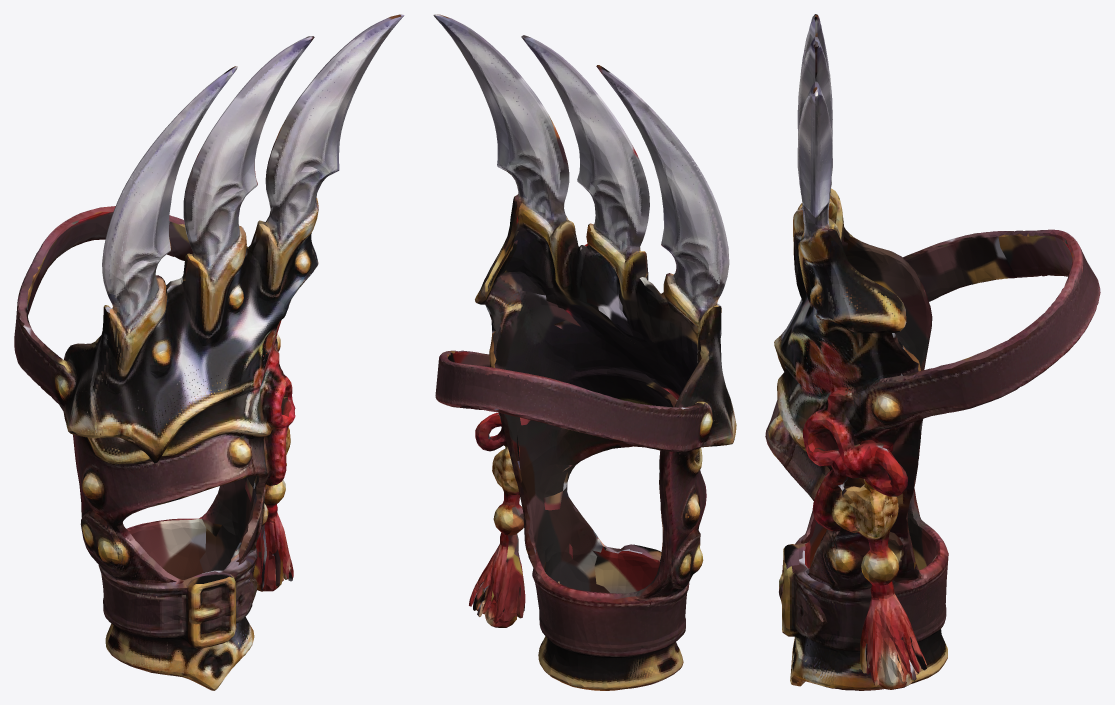
File: claws_source.glb
3 renders of one model, left to right at view 1: azimuth 30°, elevation 25°; view 2: azimuth 150°, elevation 25°; view 3: azimuth 270°, elevation 25°, orthographic. The views are drawn at different scales.
Parts seen in each view (by area): view 1: temp_mesh.ply; view 2: temp_mesh.ply; view 3: temp_mesh.ply.
Boxes of the visible parts, x1,y1,x2,y2 form: temp_mesh.ply: (14,14,404,690); temp_mesh.ply: (433,14,736,690); temp_mesh.ply: (765,14,1100,690).
Size of the model in its own units: 1.07 by 1.97 by 0.8535.
1 material, 1 textured.
